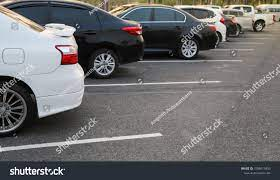car: (1, 1, 145, 79), (1, 4, 85, 135), (105, 3, 217, 58), (171, 5, 227, 47), (221, 9, 253, 35), (217, 11, 239, 41)
